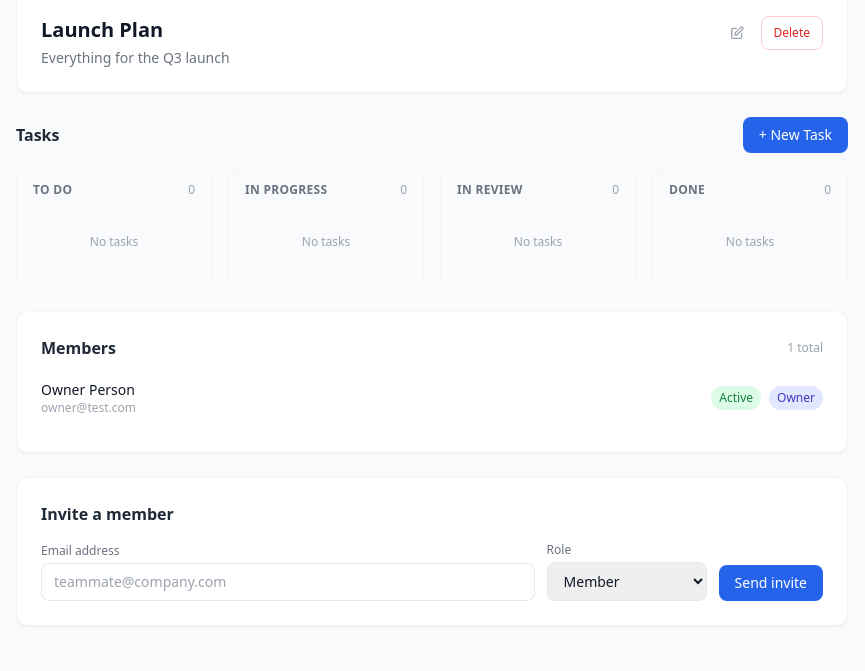
Test: ProjectDetail › invites a member through the InviteForm
Expected: the heading "Launch Plan" is shown, [41,16,163,43]
In the field labelled "Email address": (288, 582) [41,563,535,601], type "new@test.com"
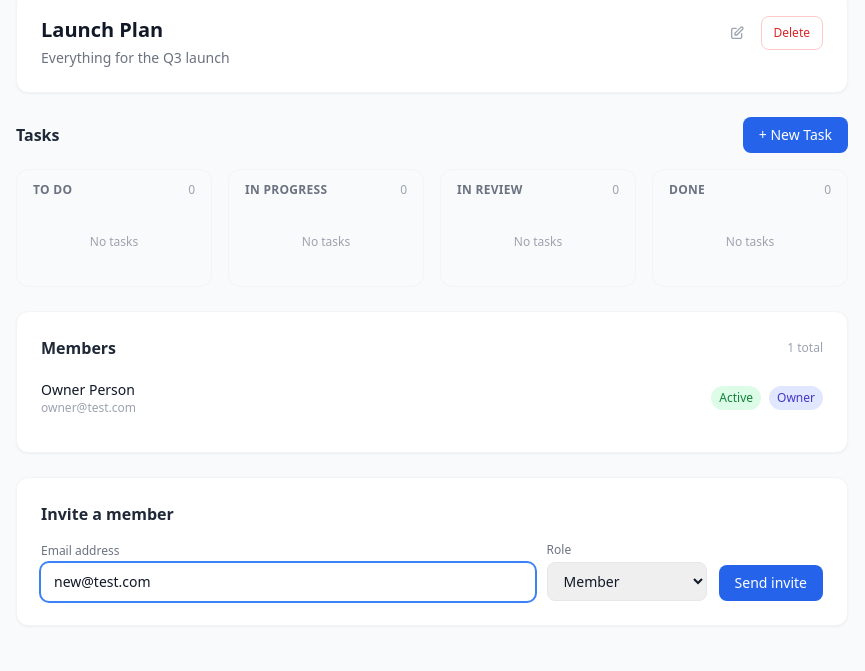
Click the button "Send invite": (771, 583) [719,565,823,601]
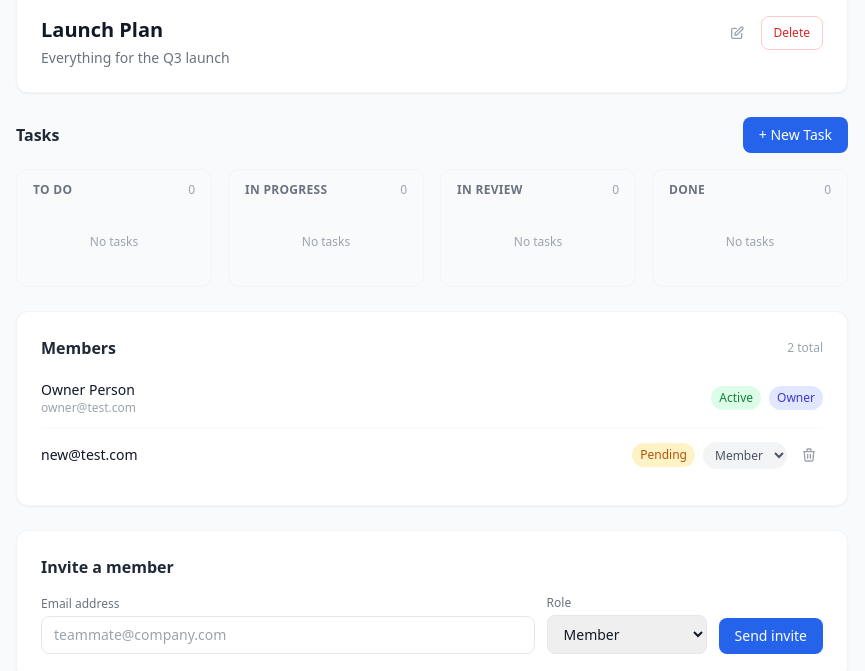
Expected: the text "new@test.com" is shown, [41,445,138,465]
